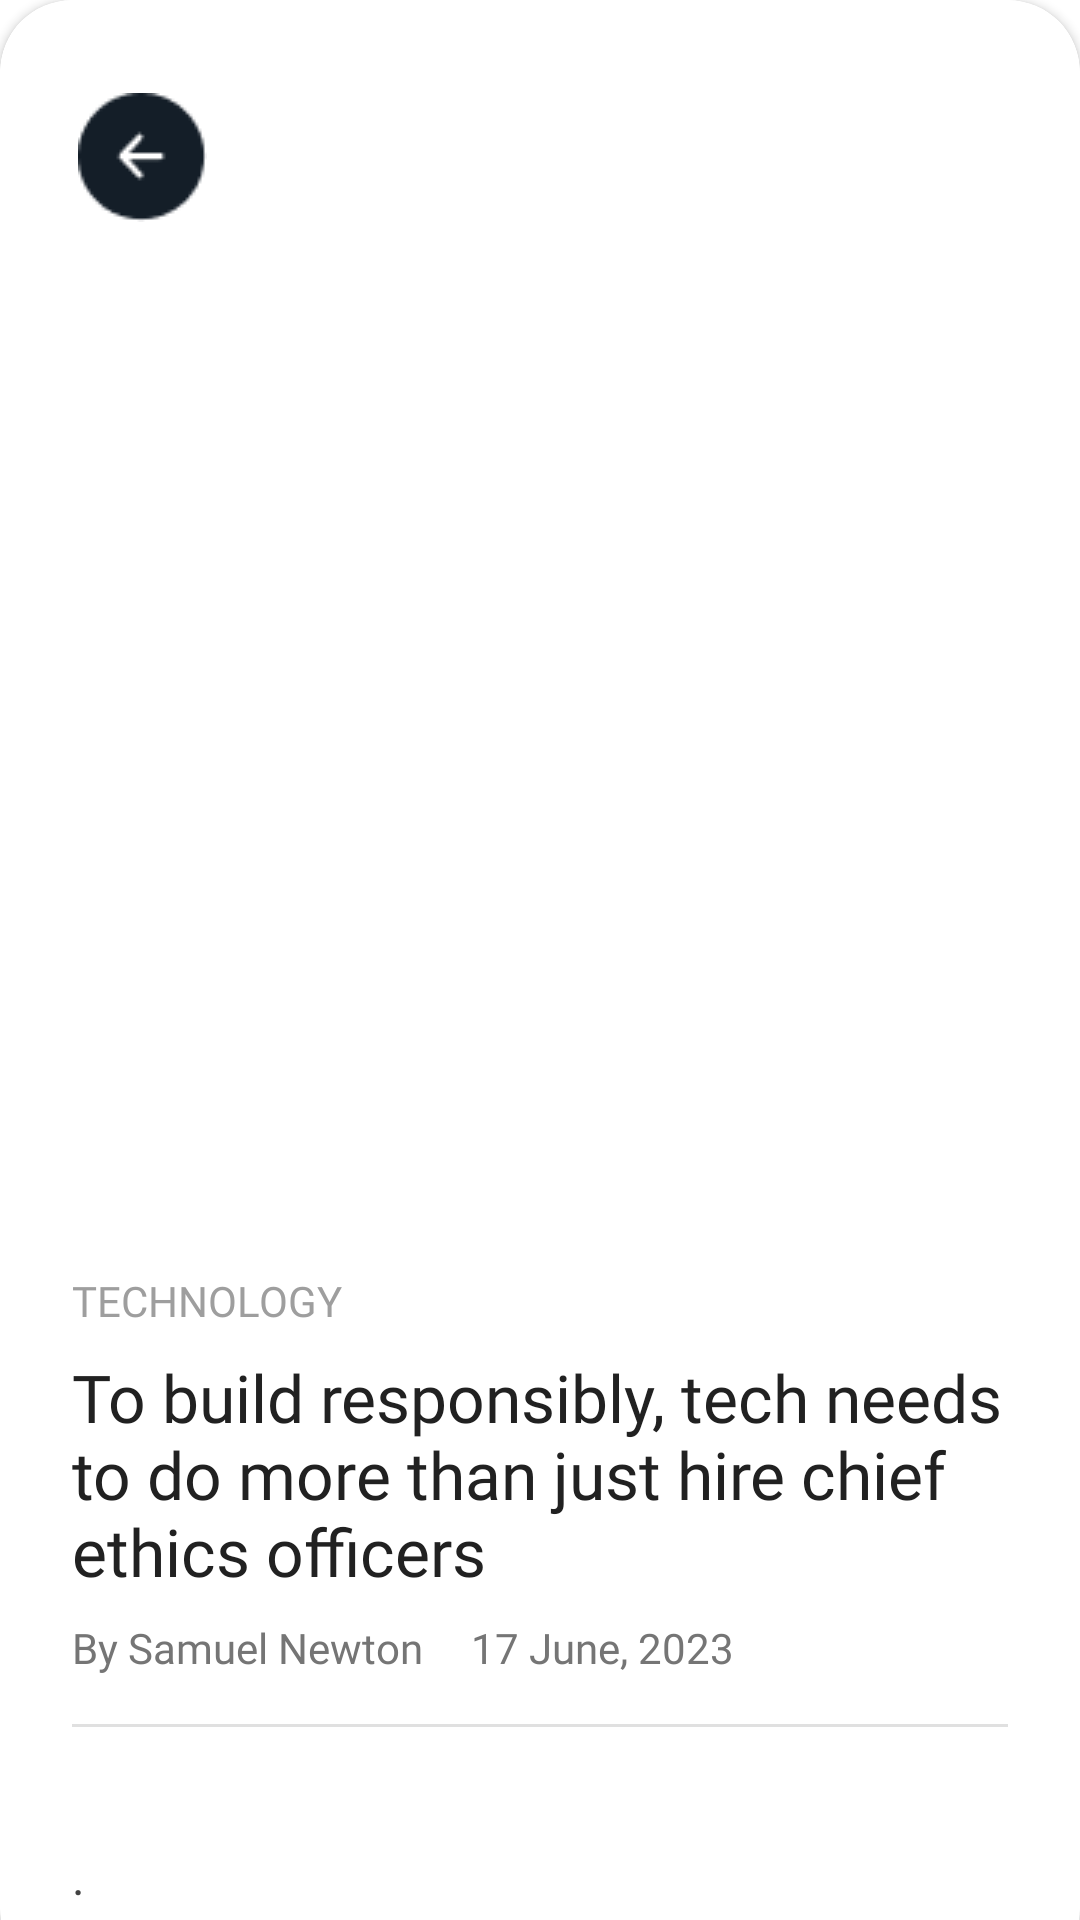

Icon bounding boxes for this 1080px×1920px phone screenshot, format (x1, y1, x2, y2):
Back: (78, 93, 205, 220)
